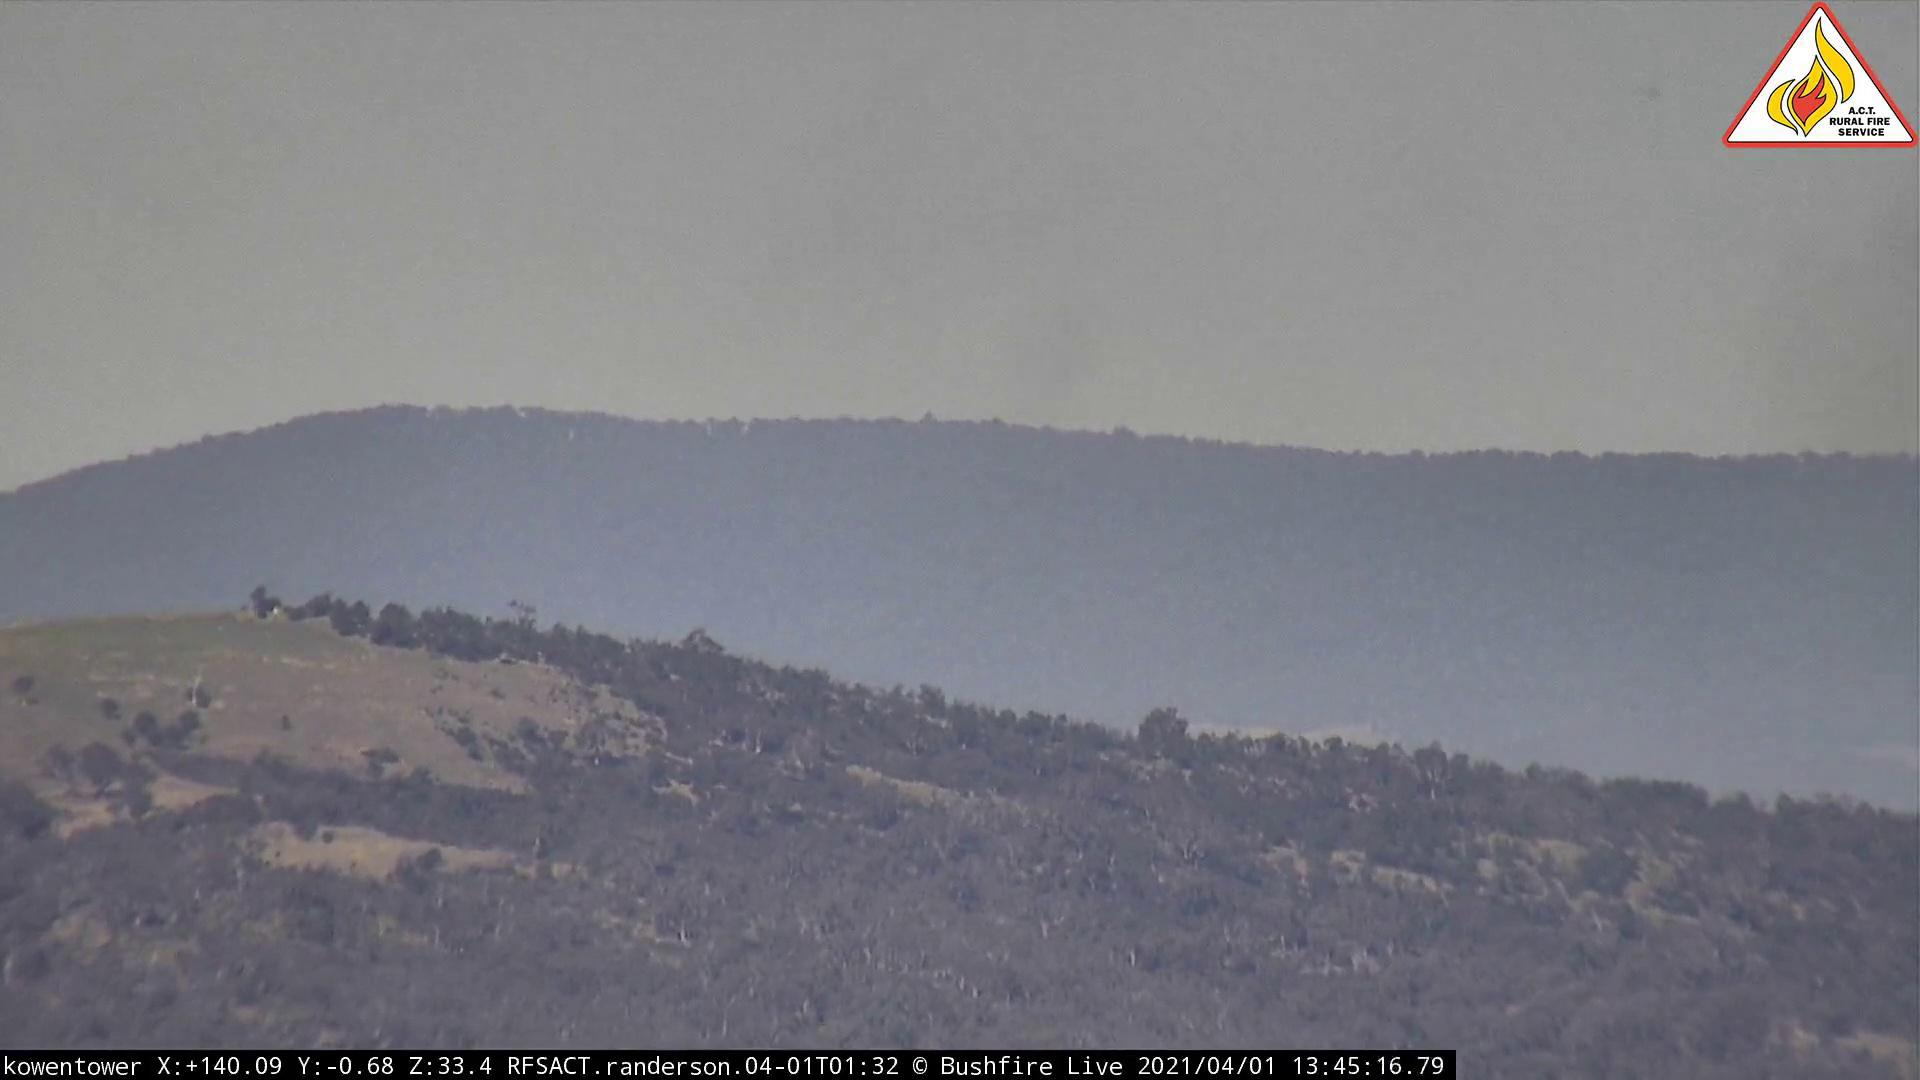instance_salient_object: (1712, 186, 1920, 650)
